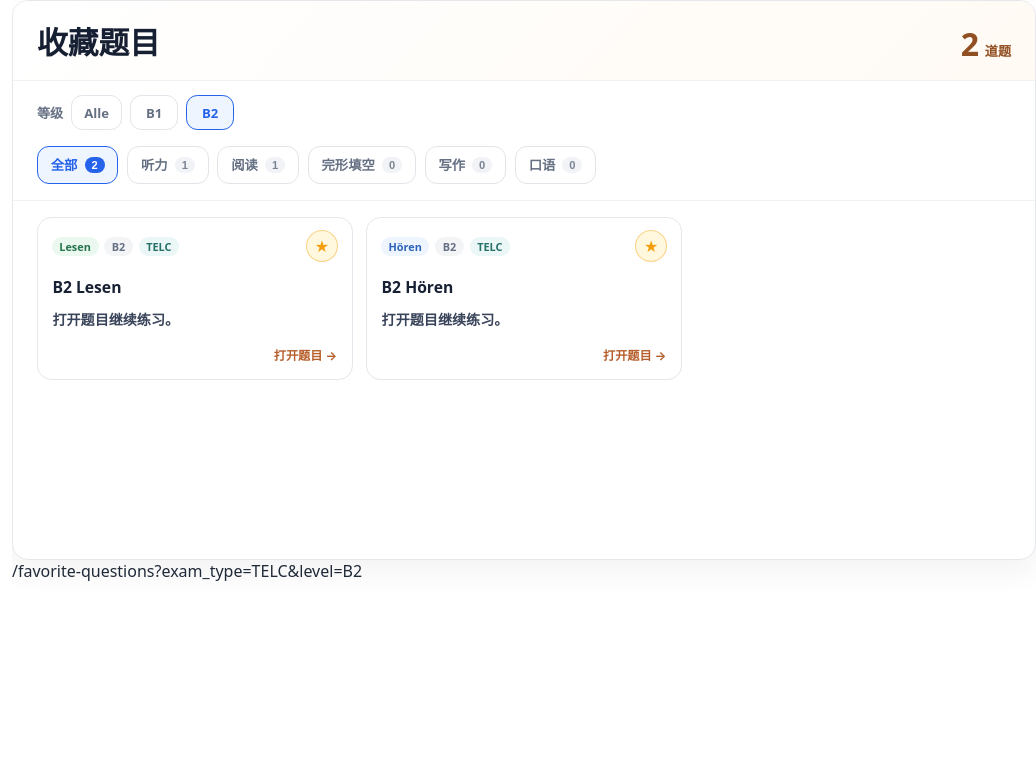
Test: FavoriteQuestionsPage › uses the scoped query on first load and preserves it while filtering
Expected: the link "B2 Lesen 打开题目继续练习。 打开题目 →" is shown, x1=38 y1=262 x2=352 y2=379
Click the button "B1" at {"x": 154, "y": 112}, box x1=130 y1=95 x2=178 y2=130
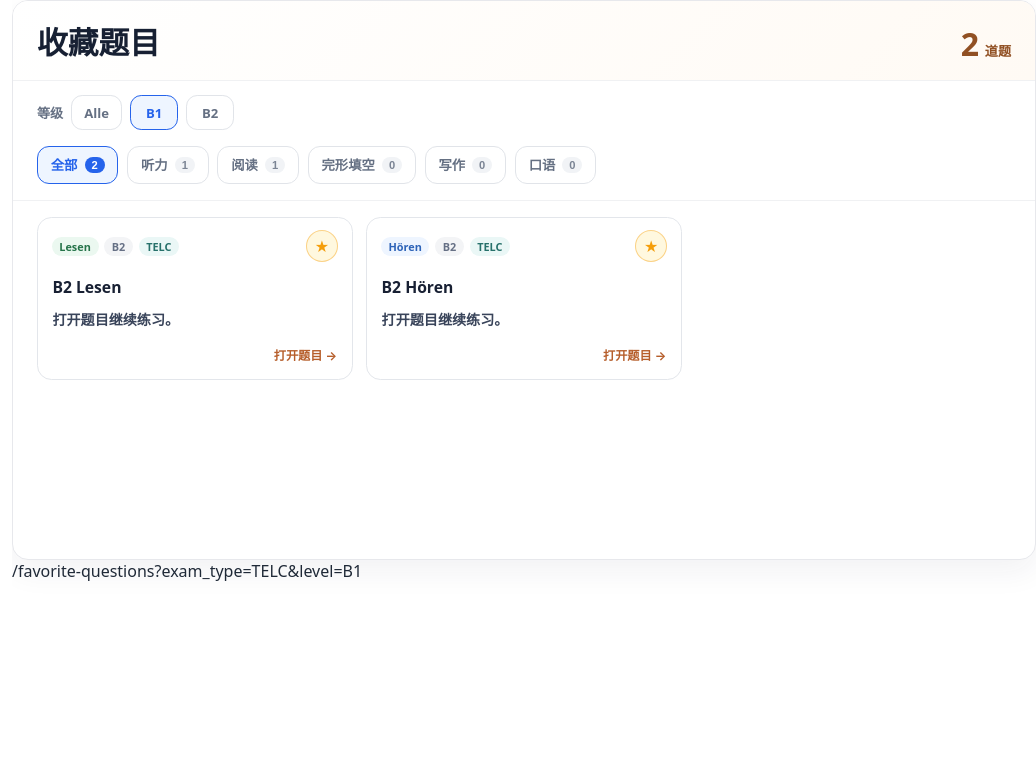
Now the text with test id "location" reads "/favorite-questions?exam_type=TELC&level=B1", box x1=12 y1=560 x2=362 y2=582
